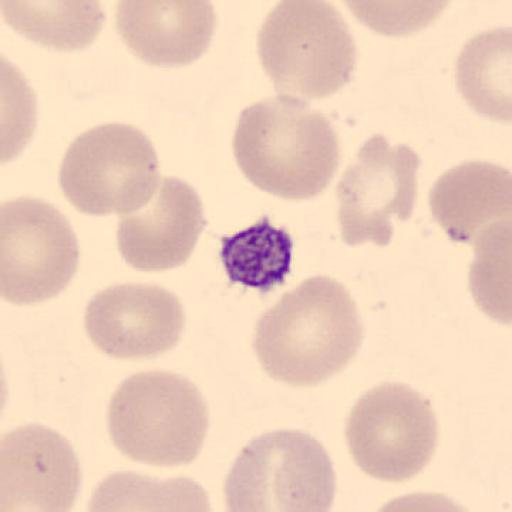Platelet: (217, 215, 296, 294)
RBC: (250, 272, 366, 388), (230, 92, 343, 202), (104, 366, 212, 470), (254, 1, 359, 102), (342, 378, 440, 485), (57, 120, 162, 219), (334, 132, 421, 250), (222, 426, 340, 512), (114, 173, 209, 274), (1, 194, 81, 308), (82, 280, 188, 362), (426, 156, 512, 245), (1, 420, 84, 512), (113, 0, 218, 69), (453, 23, 512, 123), (81, 468, 215, 512), (2, 0, 108, 54), (468, 214, 512, 329), (333, 0, 455, 39), (0, 52, 40, 168), (362, 489, 490, 512)
